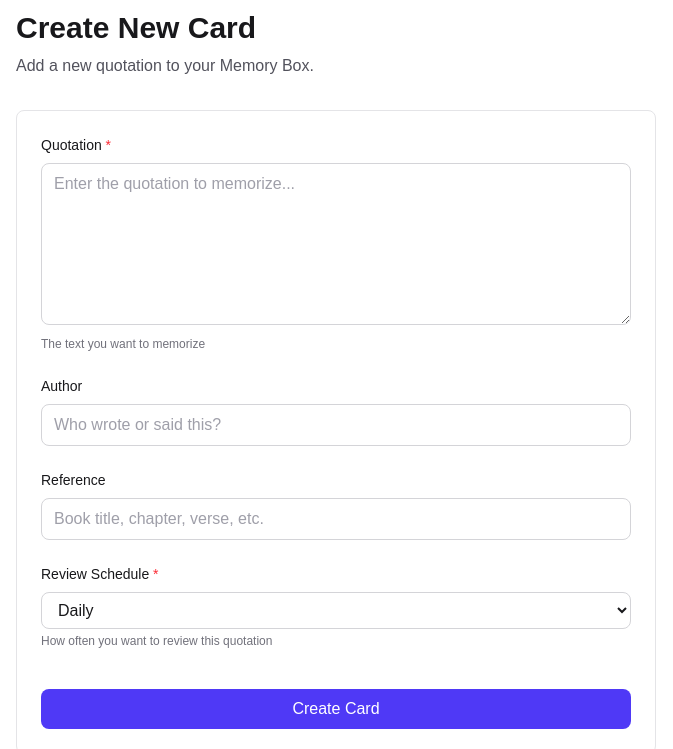
Test case: NewCardPage › should show error message when card creation fails
Note: Fill in the form
Type "Test quotation" into the text box labelled "Quotation *".
click(336, 244); type("Test quotation")  # box [41,163,631,325]
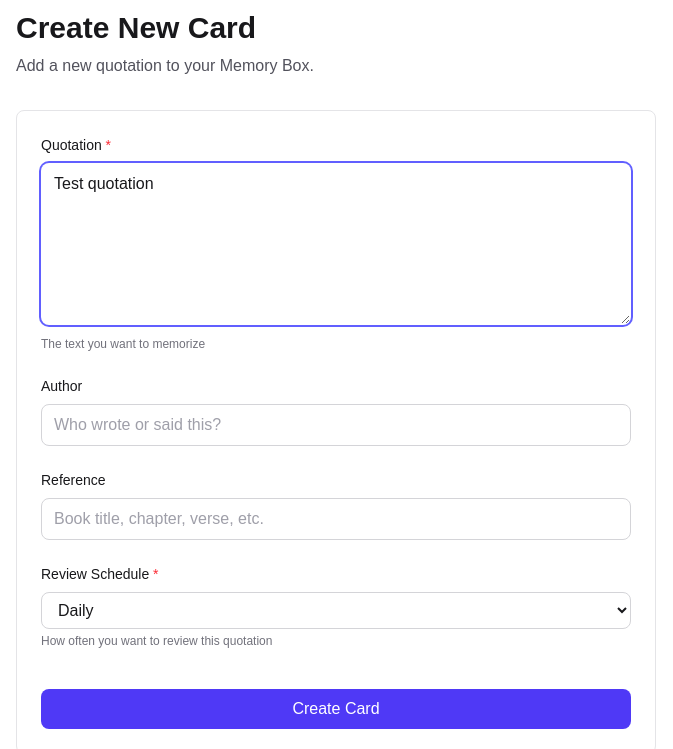
Click the button "Create Card".
click(336, 709)  # box [41,689,631,729]
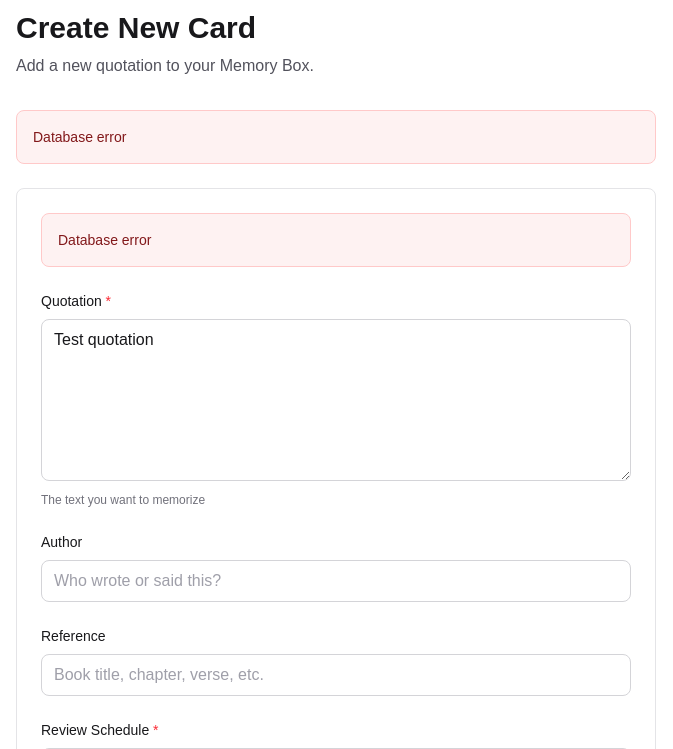
Result: the 1st text "Database error" is shown at [33,129,126,145]
